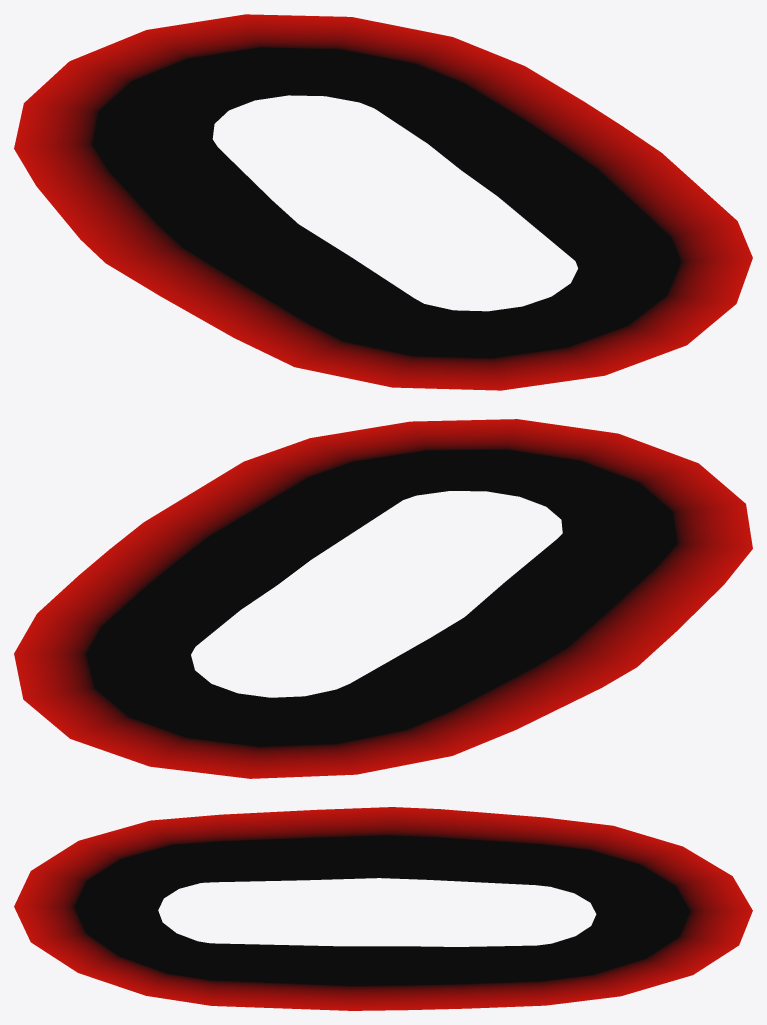
The model's file is SM_FX_WaterWave_02.fbx.
The picture shows the model from 3 angles, top to bottom: view 1: azimuth 30°, elevation 25°; view 2: azimuth 150°, elevation 25°; view 3: azimuth 270°, elevation 25°; orthographic projection. The views are drawn at different scales.
Parts seen in each view (by area): view 1: SM_FX_WaterWave_02; view 2: SM_FX_WaterWave_02; view 3: SM_FX_WaterWave_02.
Boxes of the visible parts, box(x1,y1,x2,y2) form: SM_FX_WaterWave_02: box(14, 14, 752, 390); SM_FX_WaterWave_02: box(14, 419, 752, 778); SM_FX_WaterWave_02: box(14, 807, 752, 1010).
Size of the model in its own units: 2.19 by 0 by 3.35.
